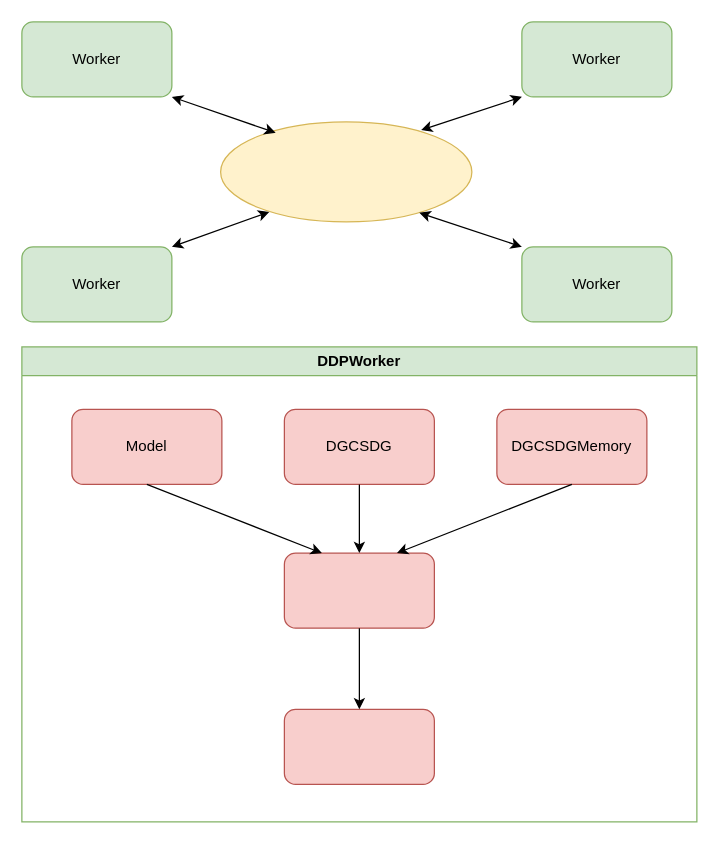
This 719x844 diagram has some shape labels left out. The centre of each missing label's shape, as x and y in pixels:
"ddp/allgather_blob" goes at point (345, 171).
"DGCStepper" goes at point (358, 590).
"ZrddsAllgather" goes at point (358, 746).
